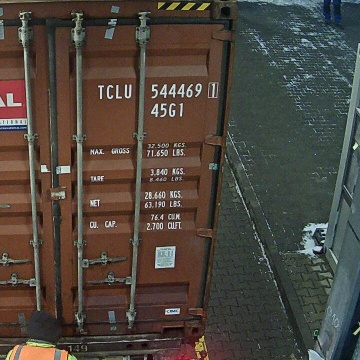serial_id: (98, 83, 216, 99)
